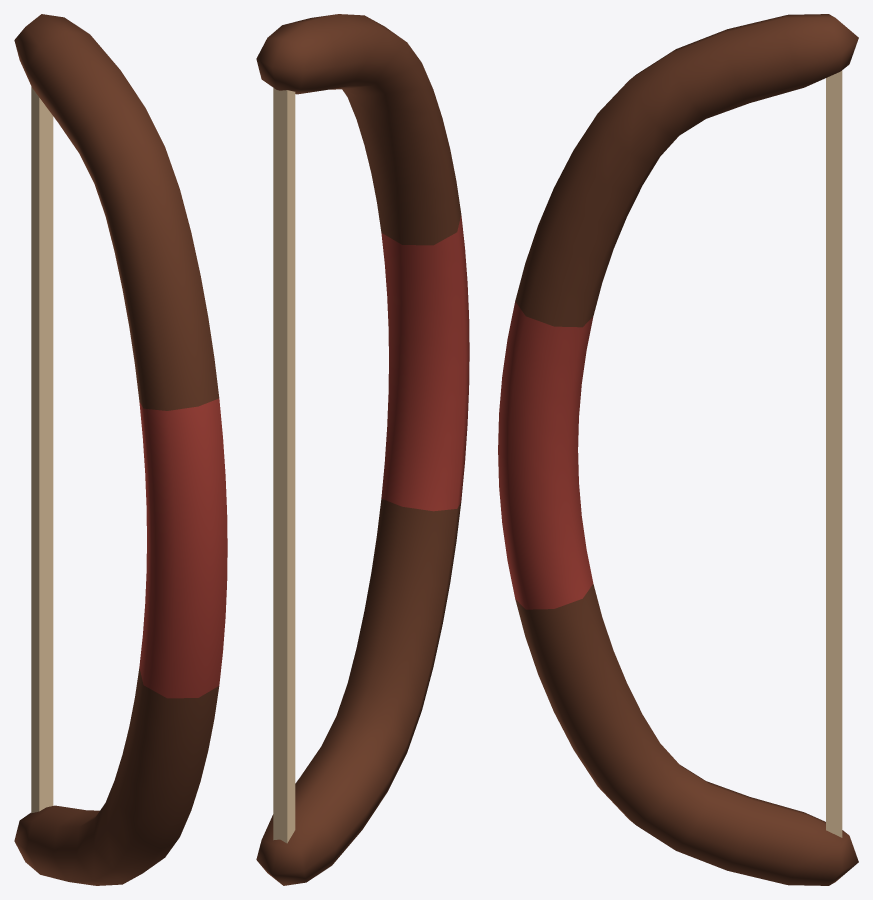
Rendered from Bow.fbx.
The picture shows the model from 3 angles, left to right: view 1: azimuth 30°, elevation 25°; view 2: azimuth 150°, elevation 25°; view 3: azimuth 270°, elevation 25°; orthographic projection. The views are drawn at different scales.
Parts seen in each view (by area): view 1: Bow; view 2: Bow; view 3: Bow.
Boxes of the visible parts, <box> form: Bow: <box>14,14,227,885</box>; Bow: <box>256,14,469,885</box>; Bow: <box>498,14,858,885</box>.
Size of the model in its own units: 0.0859 by 0.9697 by 0.3671.
